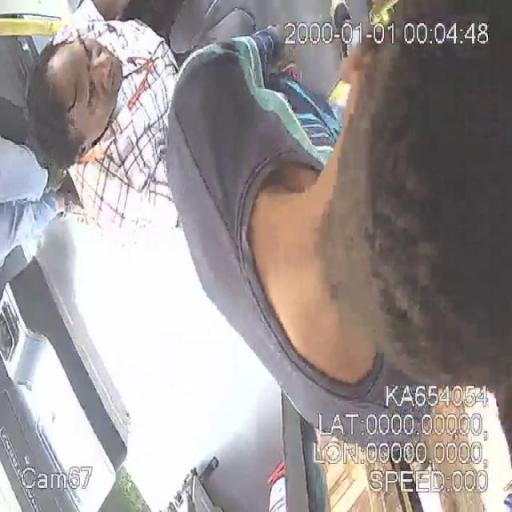persona: (162, 4, 511, 458), (28, 0, 184, 245)
